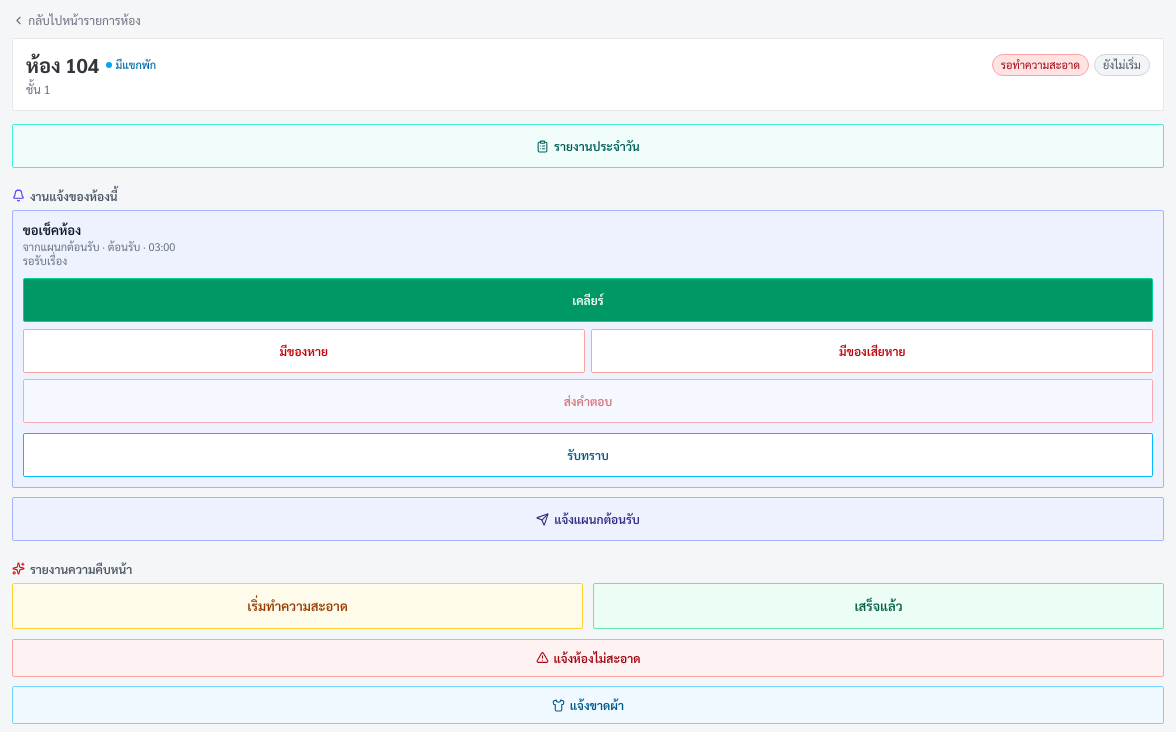
Test: maid — ขอเช็คห้อง answer flow › เคลียร์ answers with outcome clear and no problems key
Expected: the heading "ห้อง 104" is shown, [26,52,99,78]
Click the button "เคลียร์" at (588, 300), box [23,278,1153,322]
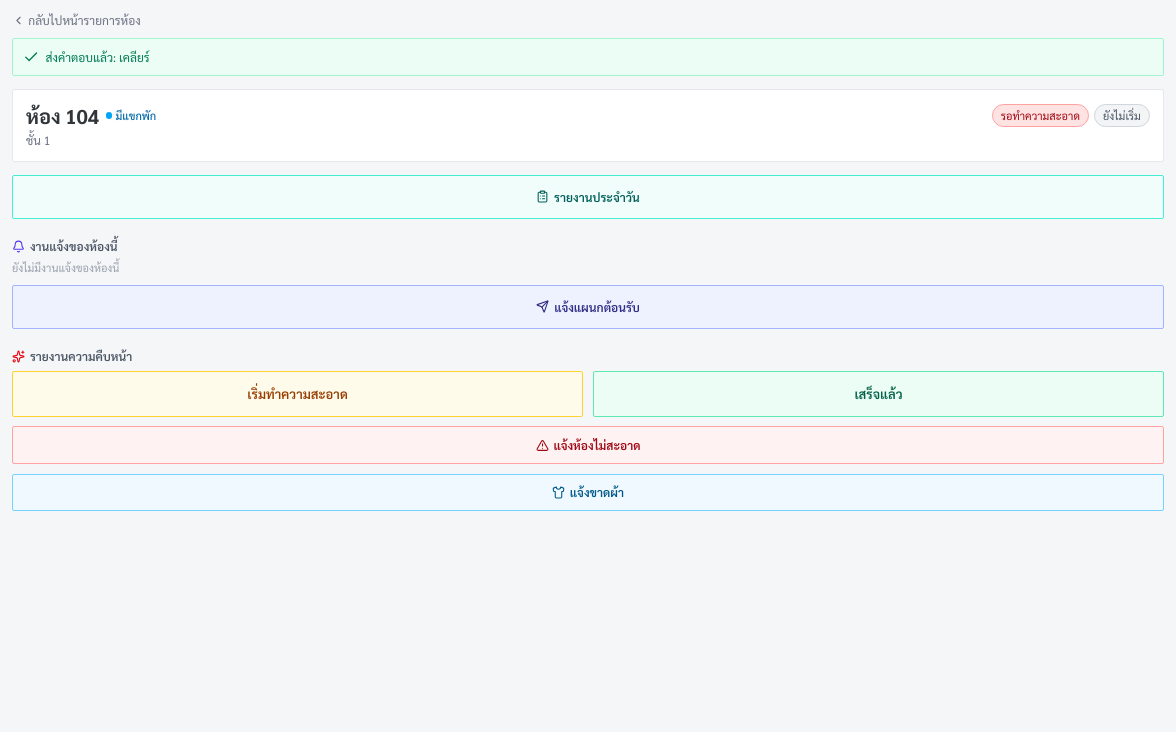
Expected: the list item with test id "hk-signal-1" is gone
